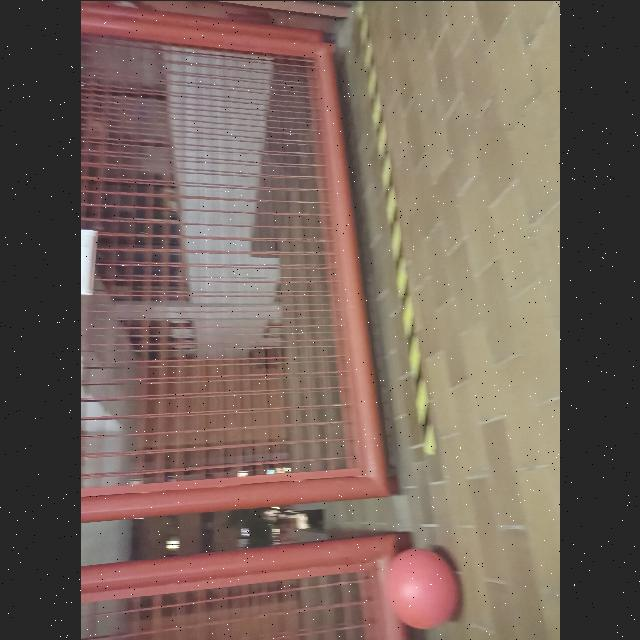R: (385, 548, 457, 628)
